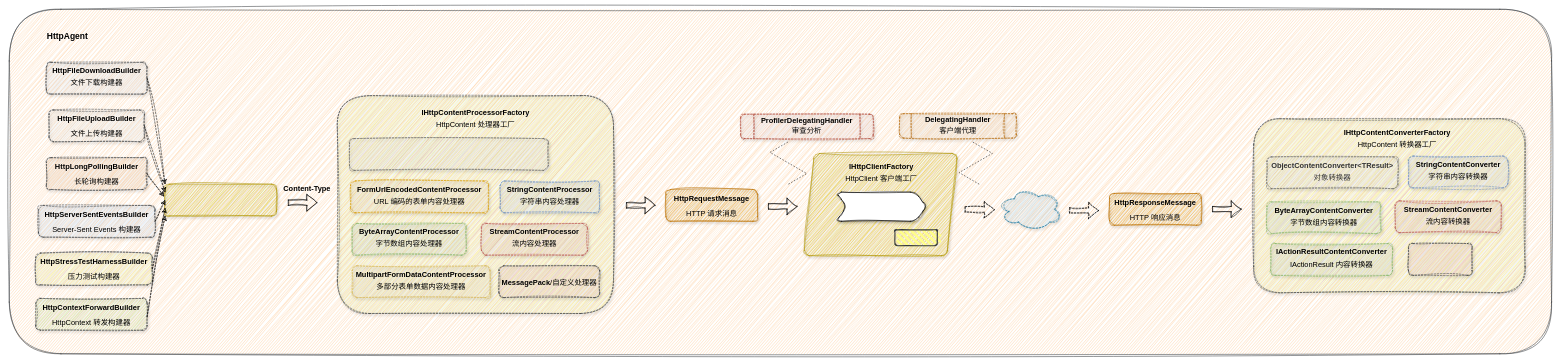
The diagram is 1561 pixels wide and 363 high, and some of its shapes have lost their labels. The shapes that lost their labels are listed below. From the top down, each one's centre as x and y in pixels, then its label:
At (449,155): "StringContentForFormUrlEncodedContentProcessor URL 编码的表单内容处理器（String）".
At (221,201): "HttpRequestBuilder HttpRequestMessage 构建器".
At (881,207): "HttpClient 客户端".
At (1031,210): "互联网资源".
At (916,237): "池化管理".
At (1440,260): "自定义转换器".
